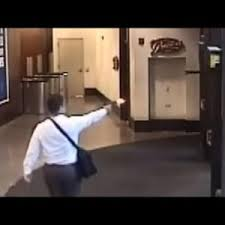Gun: (96, 98, 119, 108)
